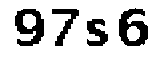6: (114, 4, 152, 51)
7: (46, 5, 80, 50)
9: (10, 8, 45, 49)
s: (83, 18, 111, 49)
